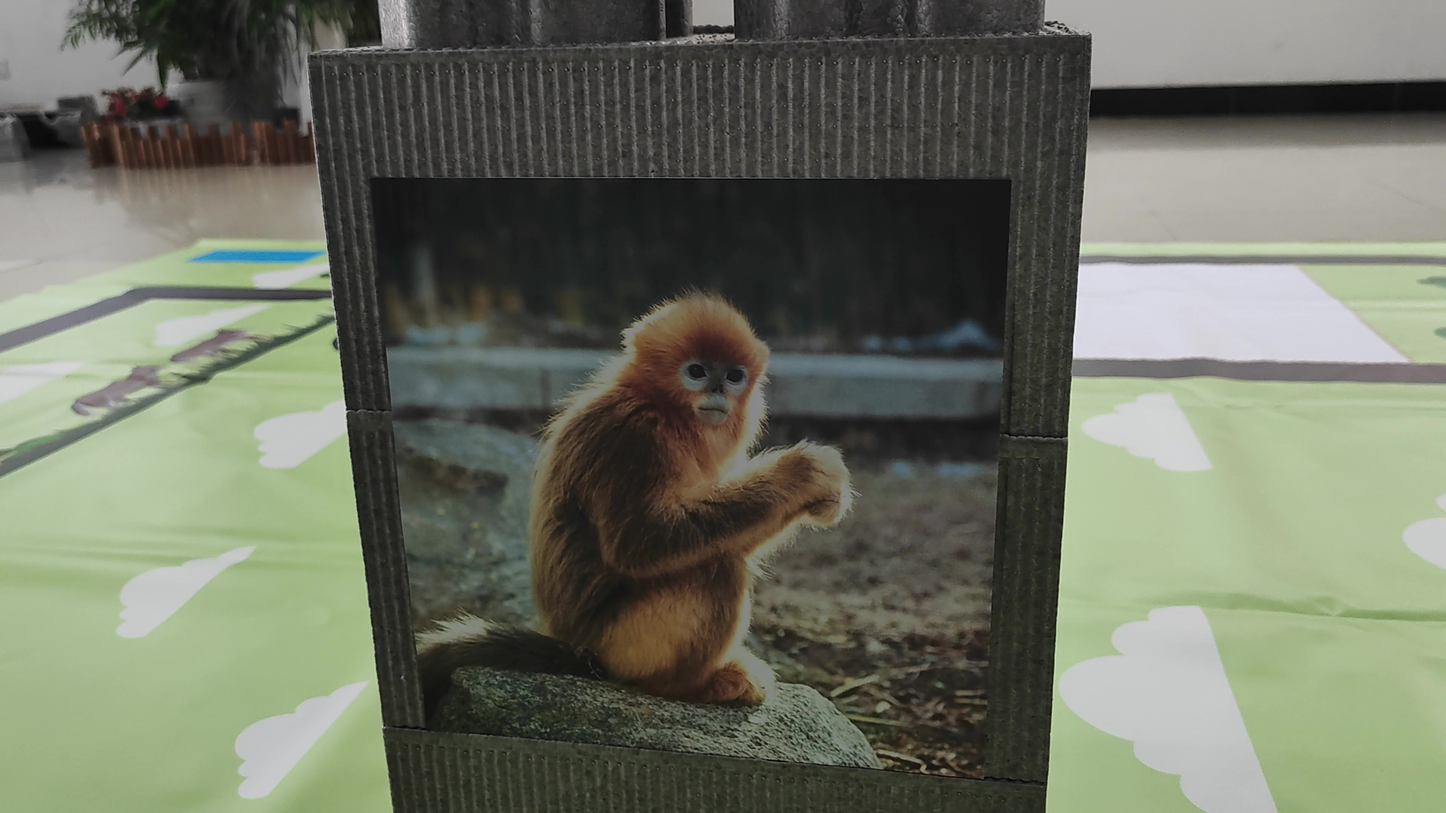monkey: (432, 280, 870, 731)
